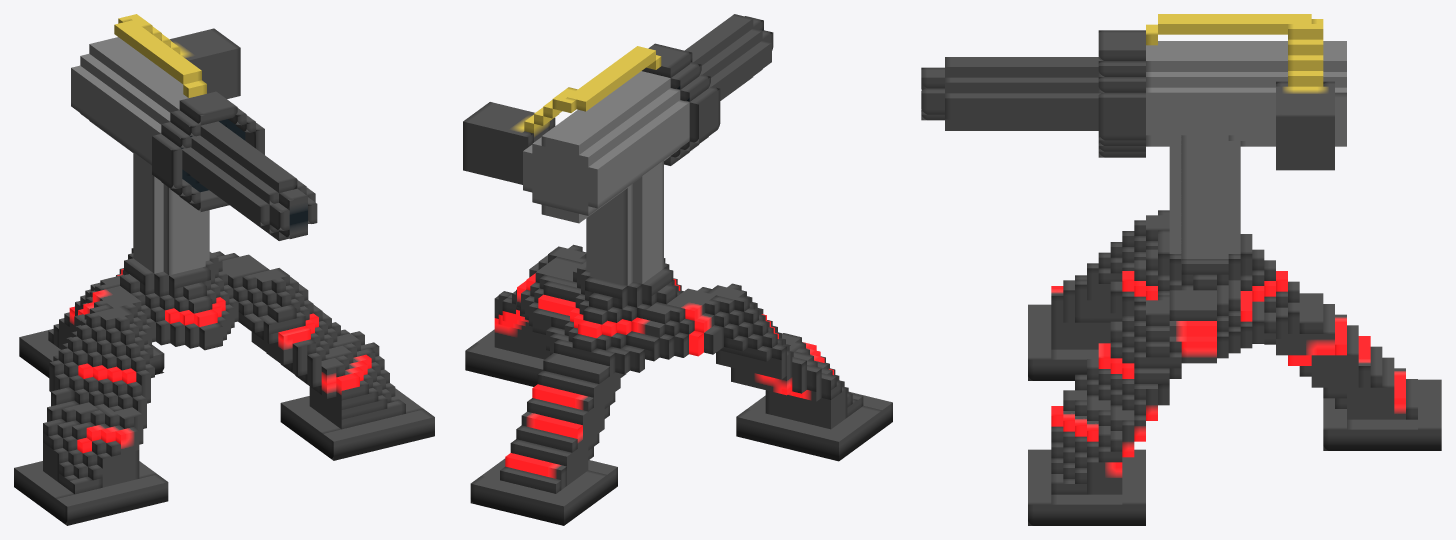
Rendered from torreta.dae.
3 views of the same model, side by side, from view 1: azimuth 30°, elevation 25°; view 2: azimuth 150°, elevation 25°; view 3: azimuth 270°, elevation 25° (orthographic). The views are drawn at different scales.
Parts seen in each view (by area): view 1: Base-local, Arma-local; view 2: Base-local, Arma-local; view 3: Base-local, Arma-local.
Part boxes in pixels (bbox=[...]): Base-local: bbox=[14, 248, 434, 525]; Arma-local: bbox=[71, 14, 317, 275]; Base-local: bbox=[465, 244, 892, 525]; Arma-local: bbox=[463, 14, 773, 285]; Base-local: bbox=[1028, 210, 1441, 525]; Arma-local: bbox=[921, 14, 1346, 269].
Size of the model in its own units: 40 by 38 by 44.
Materials: 2 (2 with a texture image).
